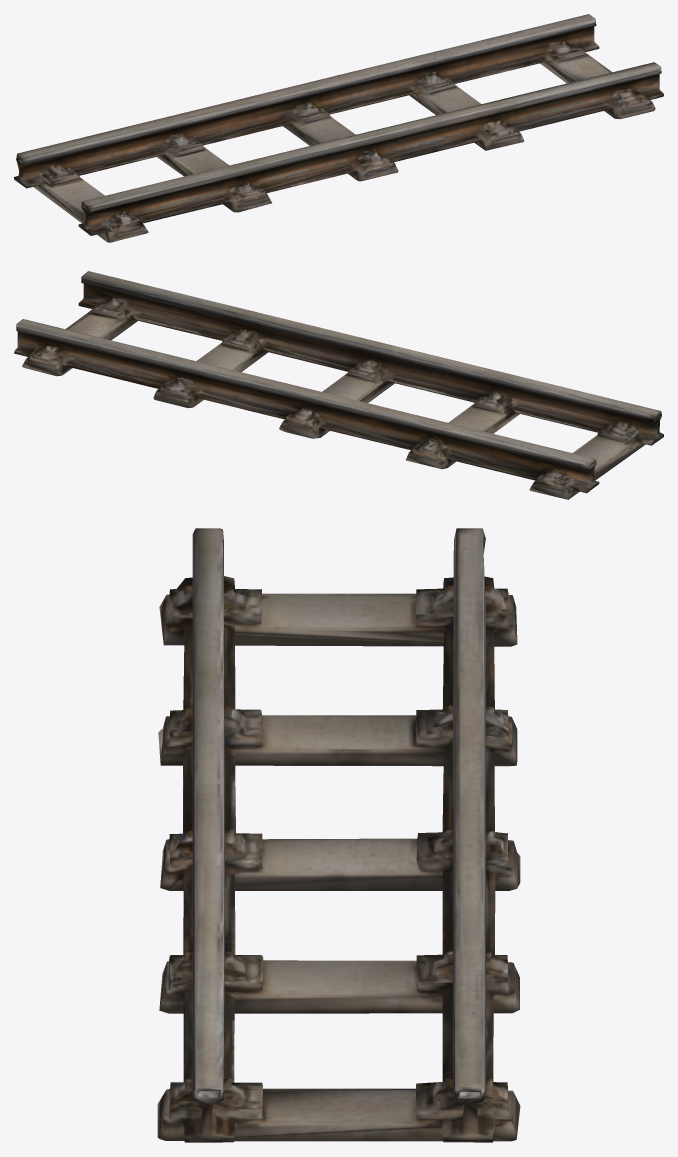
The model's file is rail.glb.
The picture shows the model from 3 angles, top to bottom: view 1: azimuth 30°, elevation 25°; view 2: azimuth 150°, elevation 25°; view 3: azimuth 270°, elevation 25°; orthographic projection. The views are drawn at different scales.
Visible parts, largest first — view 1: convert; view 2: convert; view 3: convert.
Boxes of the visible parts, x1=… form: convert: x1=14, y1=14, x2=663, y2=242; convert: x1=14, y1=271, x2=663, y2=499; convert: x1=157, y1=528, x2=520, y2=1142.
Size of the model in its own units: 1.17 by 0.068 by 0.3199.
Materials: 1 (1 with a texture image).
